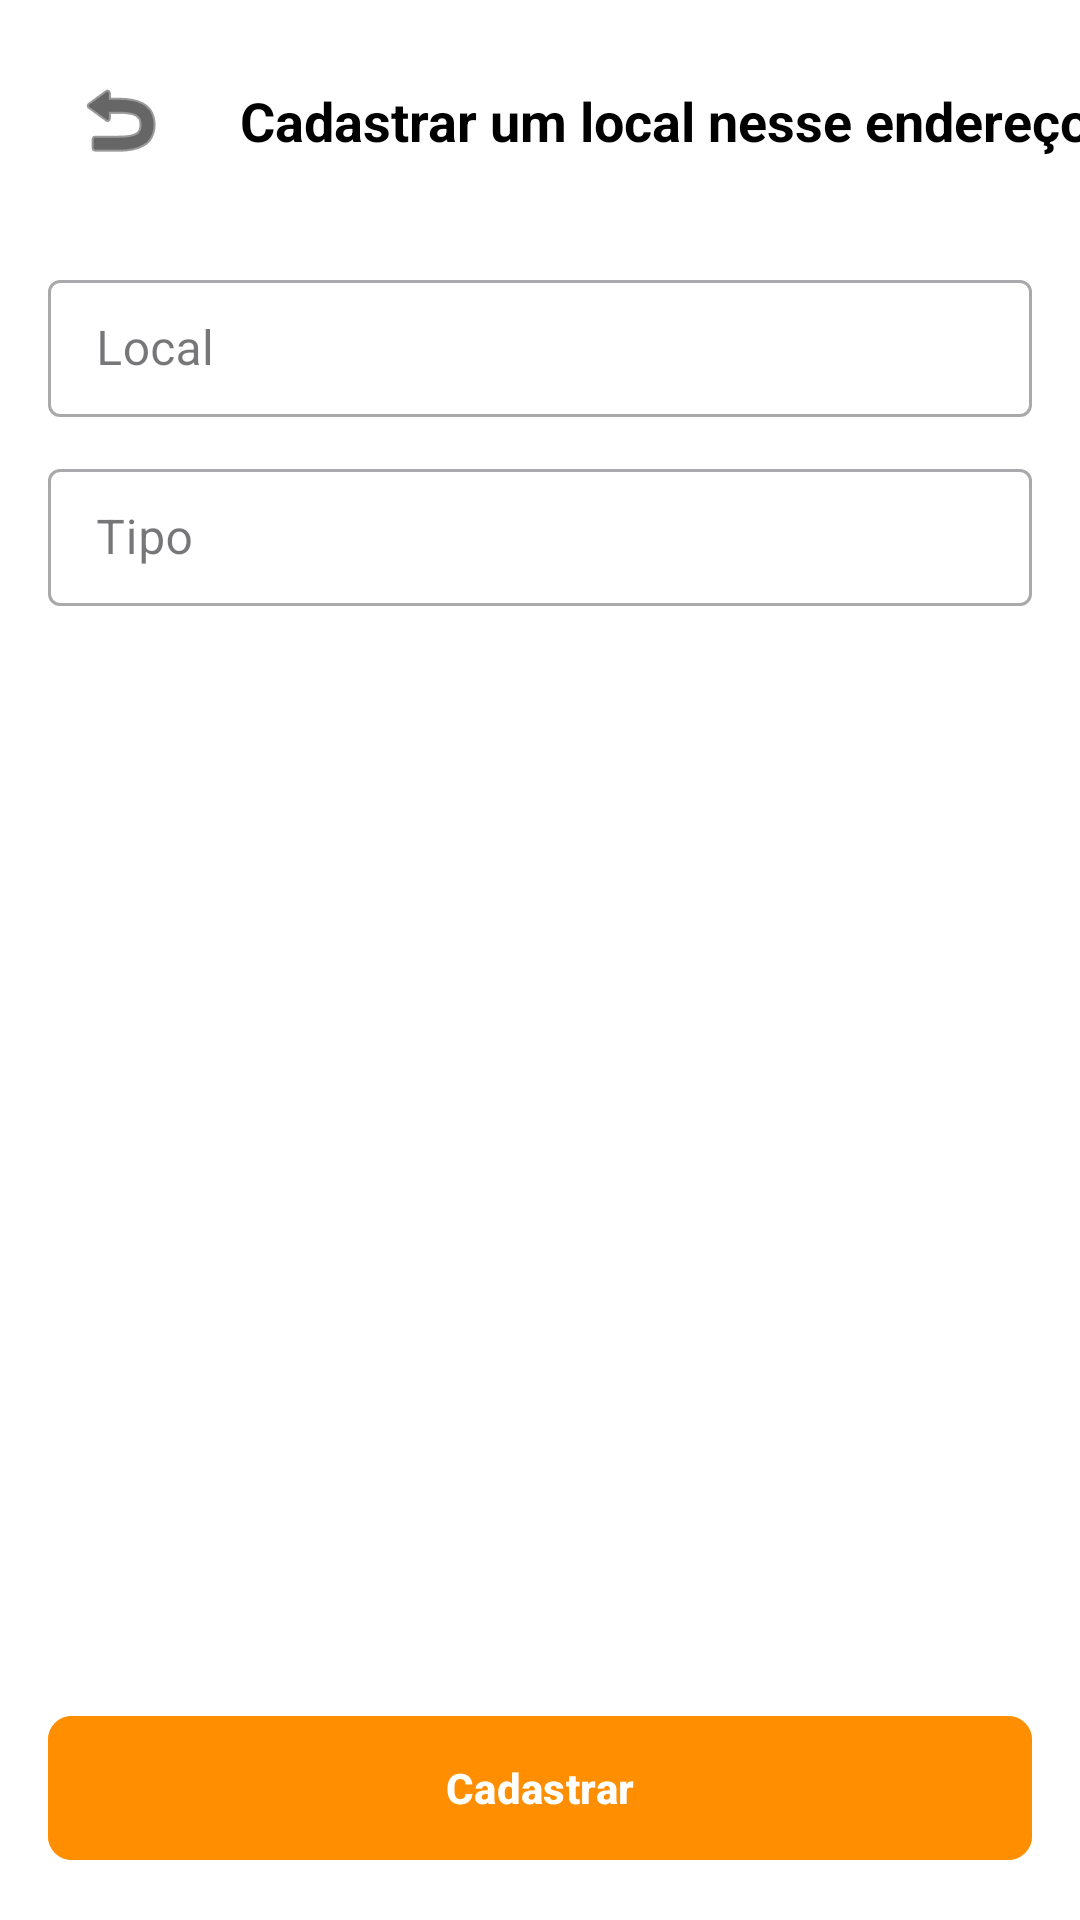

Where icons sit on this 1080w x 1920h app screen, as box(x1, y1, x2, y2):
Voltar: box(87, 89, 156, 152)
